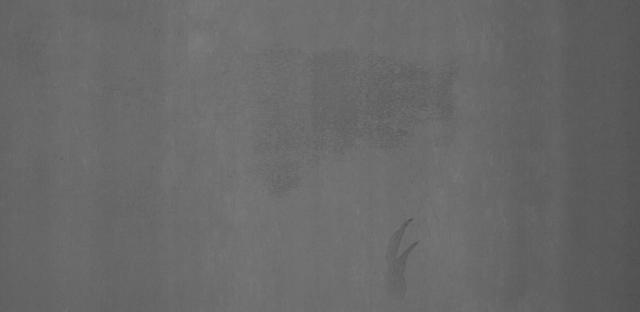water_spot: (382, 211, 429, 290)
